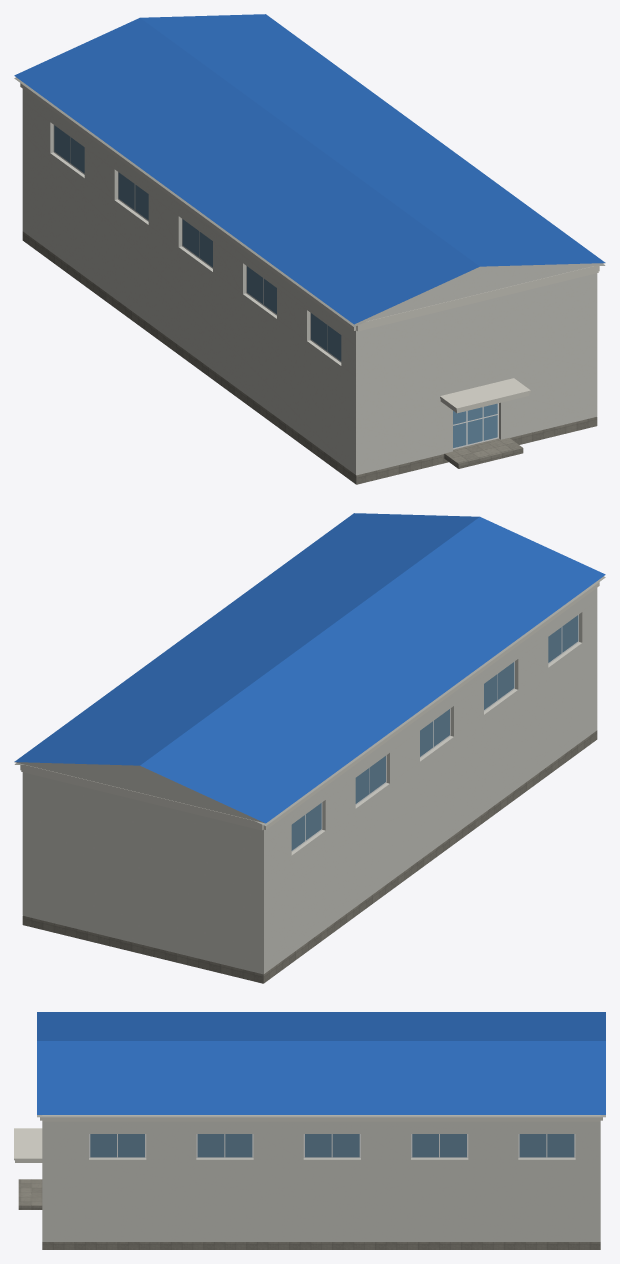
3 views of the same model, one above another, from view 1: azimuth 30°, elevation 25°; view 2: azimuth 150°, elevation 25°; view 3: azimuth 270°, elevation 25° (orthographic). The views are drawn at different scales.
Visible parts, largest first — view 1: batting__blueroof, batting__cream, batting__cap, batting__stone, batting__sideglass, batting__glass, batting__threshold-front, batting__slab, batting__frame; view 2: batting__blueroof, batting__cream, batting__stone, batting__sideglass, batting__cap, batting__slab, batting__frame; view 3: batting__cream, batting__blueroof, batting__sideglass, batting__stone, batting__cap, batting__slab, batting__frame, batting__threshold-front.
Boxes of the visible parts, x1,y1,x2,y2 form: batting__blueroof: [14, 14, 605, 324]; batting__cream: [22, 89, 605, 475]; batting__cap: [20, 83, 599, 413]; batting__stone: [22, 231, 597, 484]; batting__sideglass: [54, 125, 341, 360]; batting__glass: [453, 403, 497, 447]; batting__threshold-front: [444, 438, 523, 468]; batting__slab: [14, 77, 605, 326]; batting__frame: [53, 125, 498, 449]; batting__blueroof: [14, 513, 605, 823]; batting__cream: [14, 588, 597, 974]; batting__stone: [22, 730, 597, 983]; batting__sideglass: [291, 615, 578, 850]; batting__cap: [20, 582, 599, 830]; batting__slab: [14, 576, 605, 825]; batting__frame: [291, 614, 578, 851]; batting__cream: [42, 1121, 600, 1241]; batting__blueroof: [37, 1012, 605, 1114]; batting__sideglass: [90, 1134, 574, 1157]; batting__stone: [42, 1242, 600, 1249]; batting__cap: [14, 1115, 602, 1162]; batting__slab: [37, 1115, 605, 1117]; batting__frame: [89, 1134, 575, 1158]; batting__threshold-front: [18, 1179, 42, 1209].
Size of the model in its own units: 13.6 by 9.86 by 33.09.
Materials: 8 (2 with a texture image).
